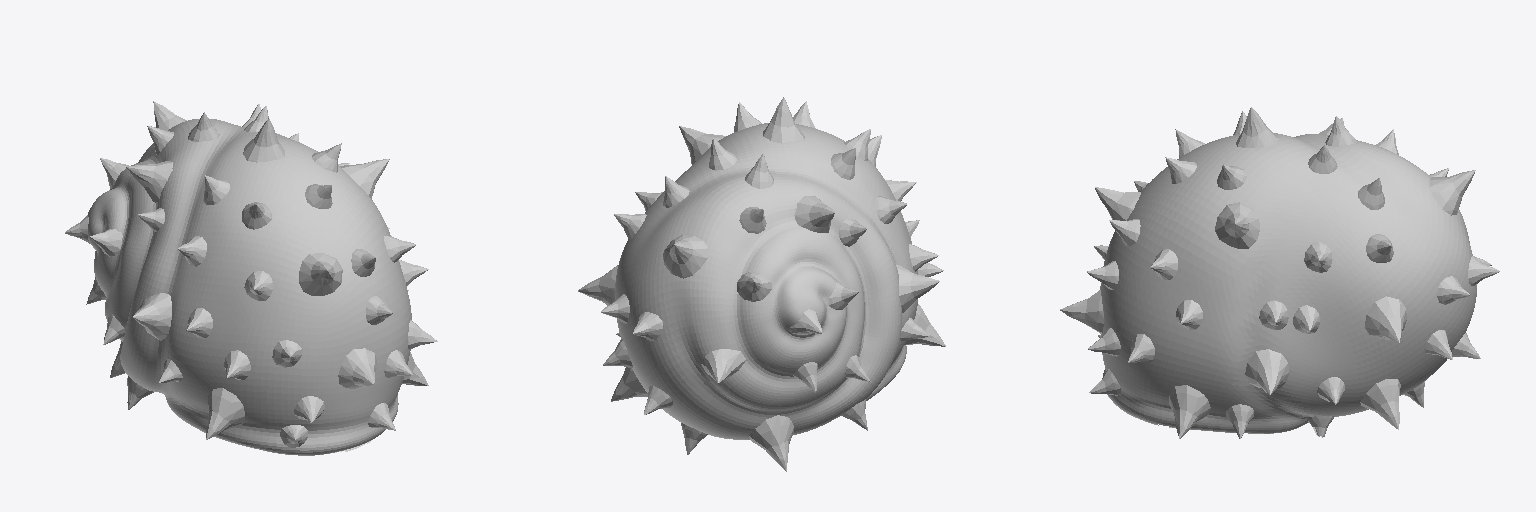
The model's file is spike.obj.
3 renders of one model, left to right at view 1: azimuth 30°, elevation 25°; view 2: azimuth 150°, elevation 25°; view 3: azimuth 270°, elevation 25°, orthographic.
Visible parts, largest first — view 1: 18675_Creature_Snail_w_spikes_on_its_shell_V1_Fix; view 2: 18675_Creature_Snail_w_spikes_on_its_shell_V1_Fix; view 3: 18675_Creature_Snail_w_spikes_on_its_shell_V1_Fix.
Part boxes in pixels (x1,y1,x2,y2): 18675_Creature_Snail_w_spikes_on_its_shell_V1_Fix: (65,101,437,455); 18675_Creature_Snail_w_spikes_on_its_shell_V1_Fix: (578,97,945,471); 18675_Creature_Snail_w_spikes_on_its_shell_V1_Fix: (1060,107,1499,438).
Size of the model in its own units: 4.9 by 4.71 by 6.32.